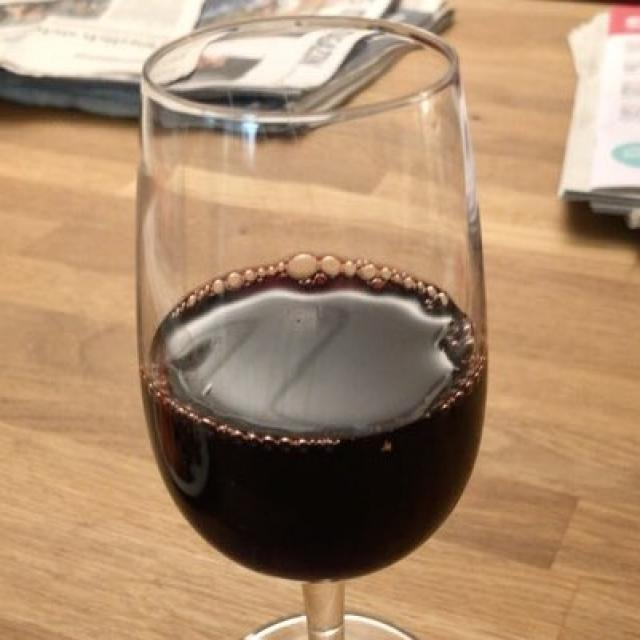wine: (151, 259, 466, 585)
